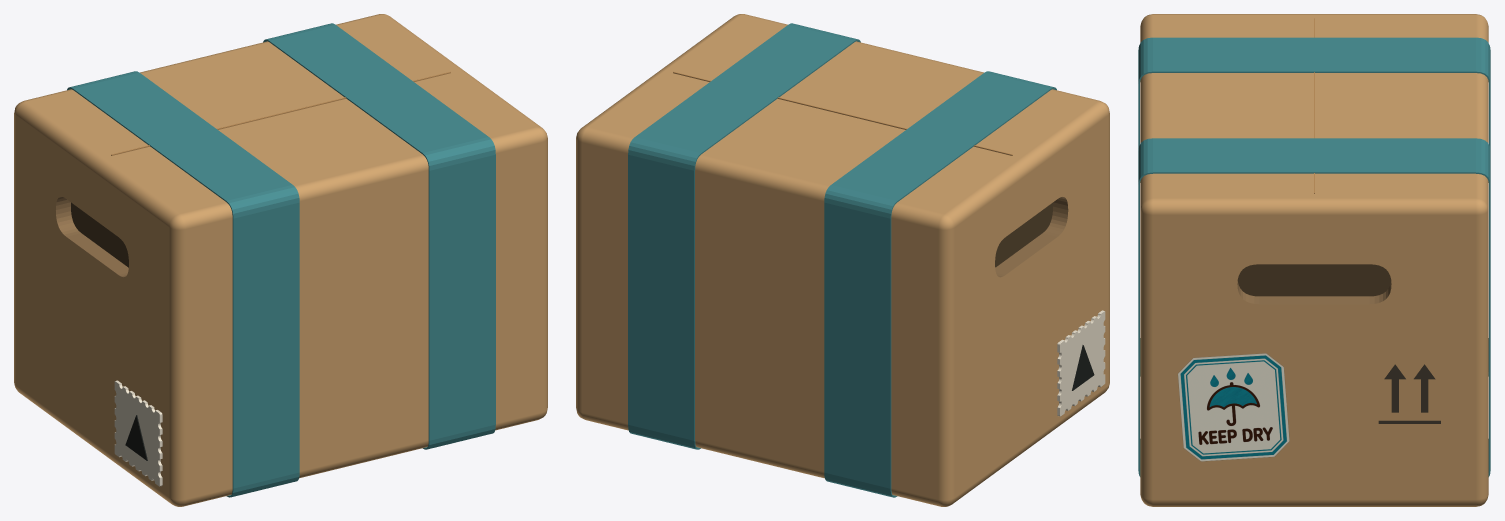
Rendered from source.glb.
3 views of the same model, side by side, from view 1: azimuth 30°, elevation 25°; view 2: azimuth 150°, elevation 25°; view 3: azimuth 270°, elevation 25° (orthographic). The views are drawn at different scales.
Visible parts, largest first — view 1: Parcel_Carton, Parcel_Tape_Parallel_1, Parcel_Tape_Parallel_2, Parcel_Paper_Label, Parcel_Carry_Slot_Walls_Negative_X, Parcel_Carry_Slot_Interior_Negative_X; view 2: Parcel_Carton, Parcel_Tape_Parallel_1, Parcel_Tape_Parallel_2, Parcel_Paper_Label, Parcel_Carry_Slot_Walls_Negative_X, Parcel_Carry_Slot_Interior_Negative_X; view 3: Parcel_Carton, Parcel_Tape_Parallel_2, Parcel_Tape_Parallel_1, Parcel_Care_D3_Artwork, Parcel_Carry_Slot_Interior_Positive_X, Parcel_Carry_Slot_Walls_Positive_X, Parcel_Up_Arrows_Positive_X.
Part boxes in pixels (x1,y1,x2,y2): Parcel_Carton: (14,14,547,506); Parcel_Tape_Parallel_1: (67,71,299,497); Parcel_Tape_Parallel_2: (263,23,495,449); Parcel_Paper_Label: (114,380,162,486); Parcel_Carry_Slot_Walls_Negative_X: (56,196,128,277); Parcel_Carry_Slot_Interior_Negative_X: (71,202,128,267); Parcel_Carton: (576,14,1109,506); Parcel_Tape_Parallel_1: (824,71,1056,497); Parcel_Tape_Parallel_2: (628,23,860,449); Parcel_Paper_Label: (1057,310,1105,416); Parcel_Carry_Slot_Walls_Negative_X: (995,197,1068,277); Parcel_Carry_Slot_Interior_Negative_X: (995,202,1052,267); Parcel_Carton: (1140,14,1488,506); Parcel_Tape_Parallel_2: (1138,138,1490,476); Parcel_Tape_Parallel_1: (1138,37,1490,376); Parcel_Care_D3_Artwork: (1178,353,1289,461); Parcel_Carry_Slot_Interior_Positive_X: (1237,264,1391,296); Parcel_Carry_Slot_Walls_Positive_X: (1237,281,1391,304); Parcel_Up_Arrows_Positive_X: (1378,364,1440,423).
Bounding box in the file's own units: 0.2531 × 0.187 × 0.192.
11 materials, 1 textured.
